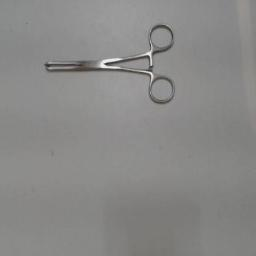Allis Tissue Forceps: (39, 20, 179, 112)
